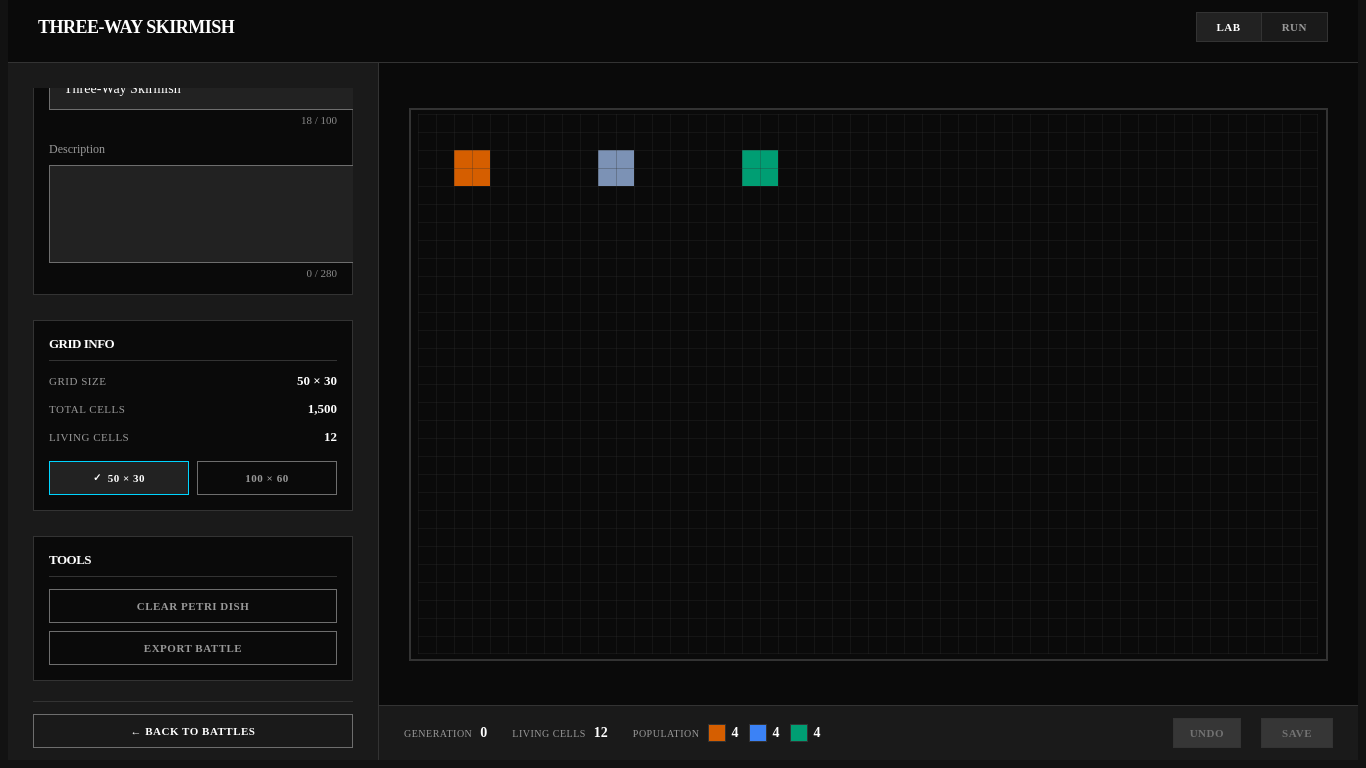
BattlePage — Export Battle (Story 5.6) › a rejecting exportBattle shows the export alert, attempts the export exactly once, and restores focus (AC8, AC9)
The image size is (1366, 768).
(page scrolled)
Expected: the heading "Three-Way Skirmish" is shown, [38,16,234,38]
Click the button "Export Battle" at (193, 648), box [49,630,337,664]
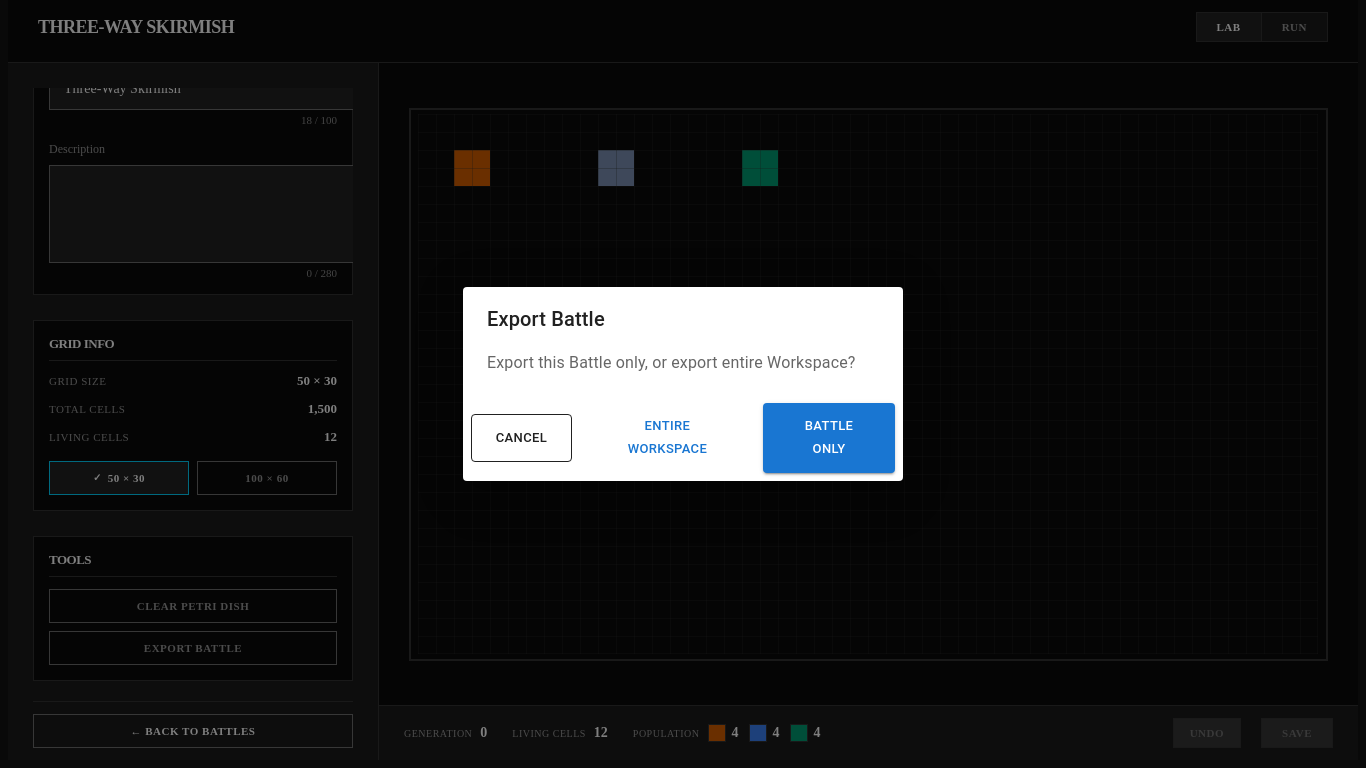
Click the button "Battle Only" at (829, 438), box [763,403,895,473]
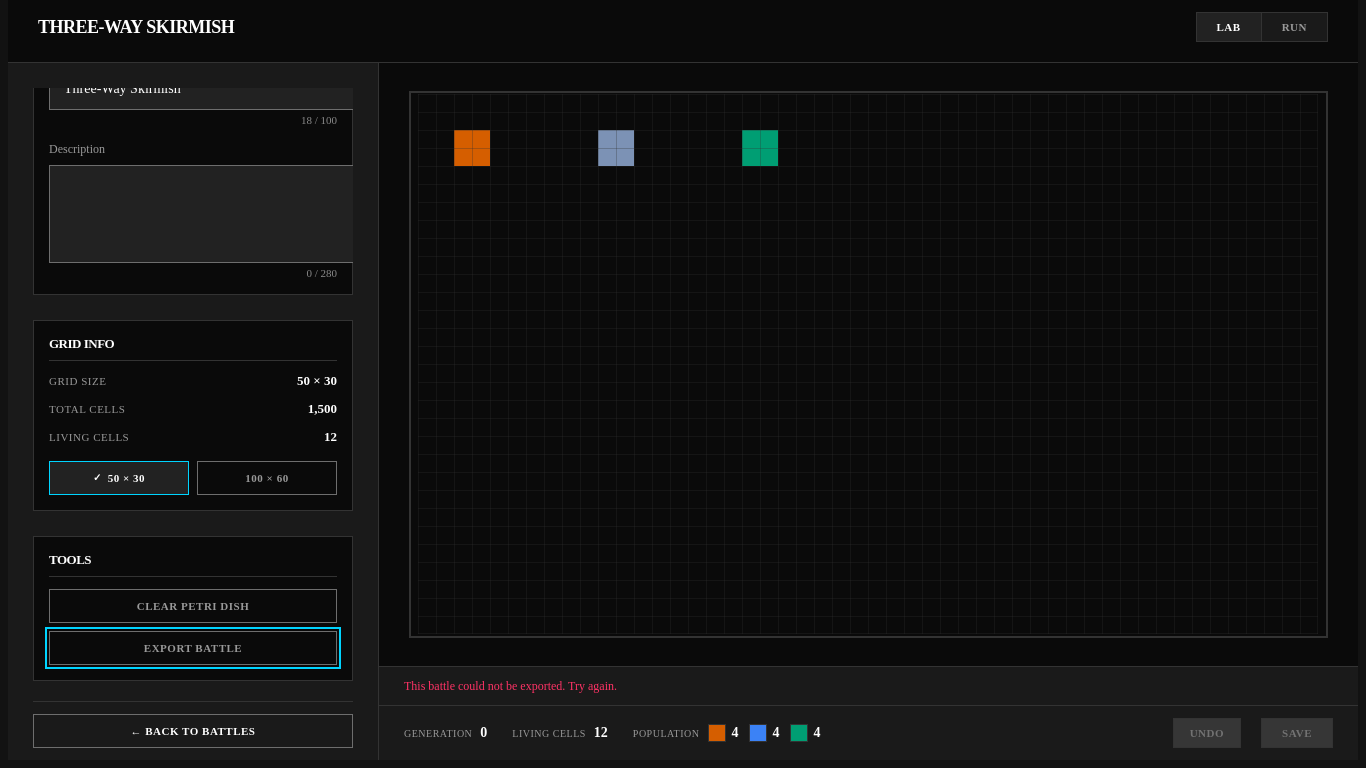
Expected: the message does not show "boom", [379,666,1358,705]
Result: the message reads "This battle could not be exported. Try again." at [404,679,617,693]
